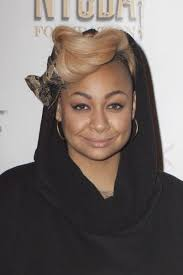black_female: (47, 53, 146, 161)
